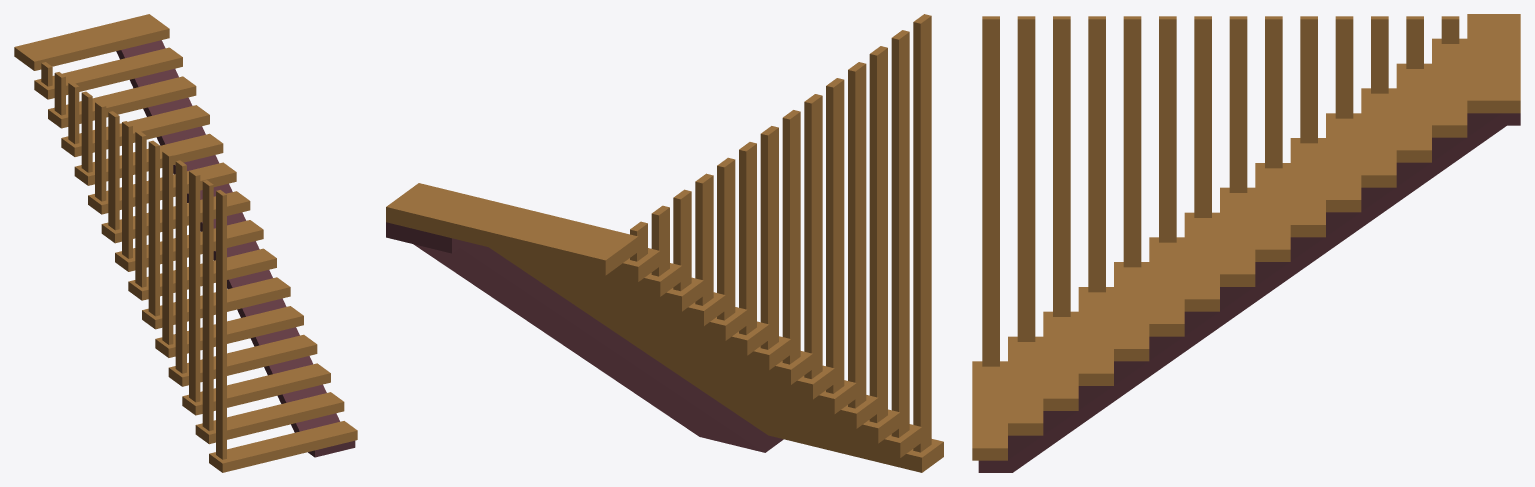
Rendered from stairs-house-wall-4m.fbx.
The picture shows the model from 3 angles, left to right: view 1: azimuth 30°, elevation 25°; view 2: azimuth 150°, elevation 25°; view 3: azimuth 270°, elevation 25°; orthographic projection. The views are drawn at different scales.
Visible parts, largest first — view 1: stairs-house-wall-4m; view 2: stairs-house-wall-4m; view 3: stairs-house-wall-4m.
Boxes of the visible parts, x1,y1,x2,y2 form: stairs-house-wall-4m: (14, 14, 357, 472); stairs-house-wall-4m: (386, 14, 943, 472); stairs-house-wall-4m: (972, 14, 1520, 472).
Size of the model in its own units: 1.5 by 3 by 4.
